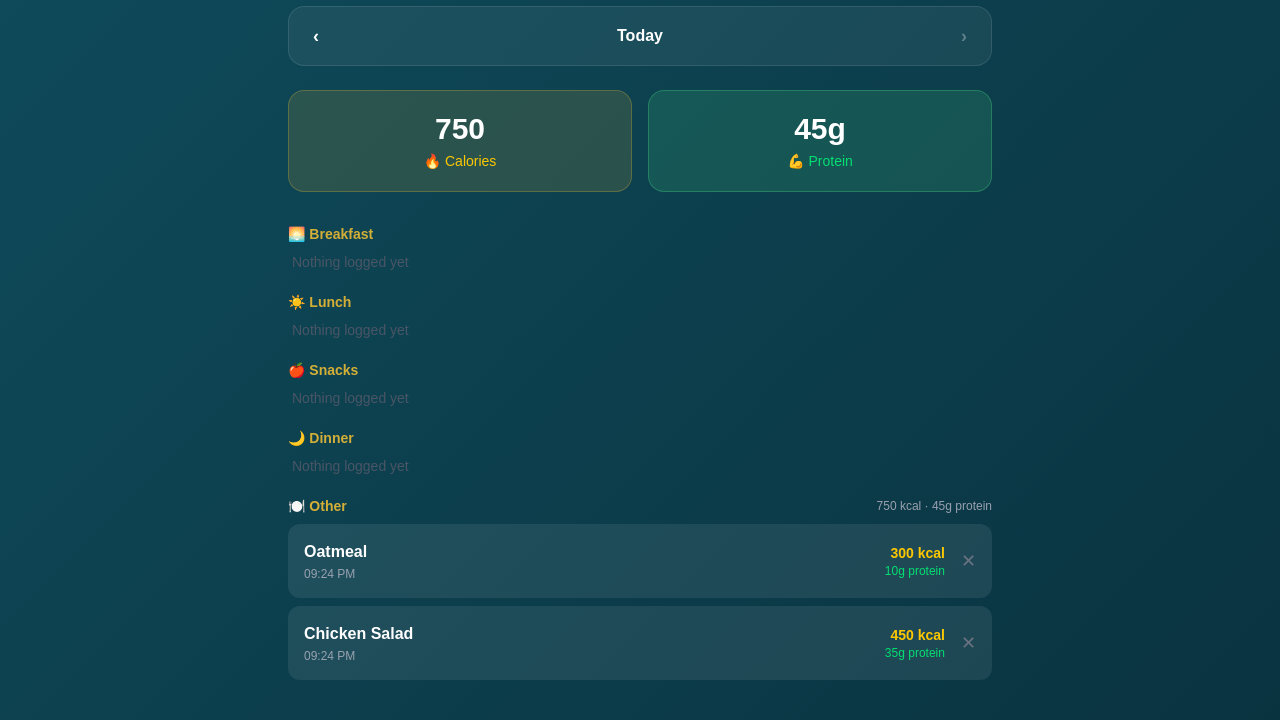
HistoryPage › deletes a meal from the list
(page scrolled)
Expected: the text "Oatmeal" is shown, [304, 543, 367, 560]
Click the button named "Delete meal" at x=968, y=561, box [961, 552, 976, 570]
(page scrolled)
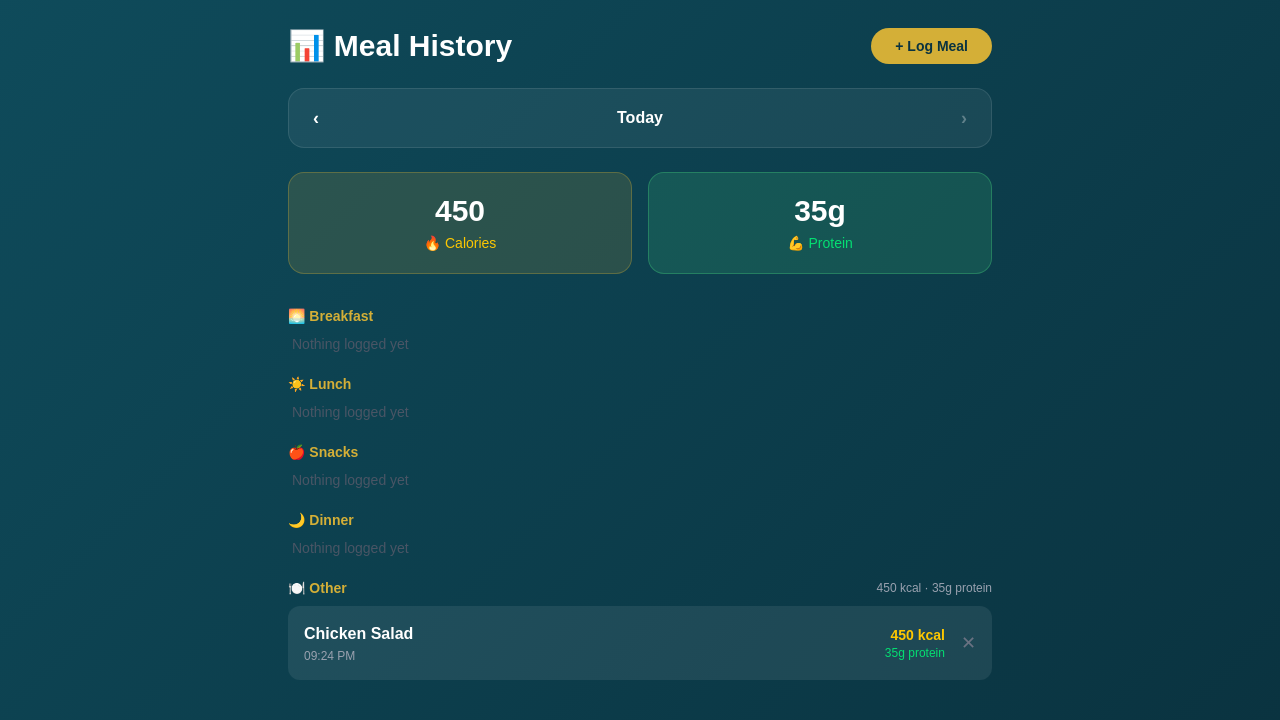
Now the text "Oatmeal" is gone
